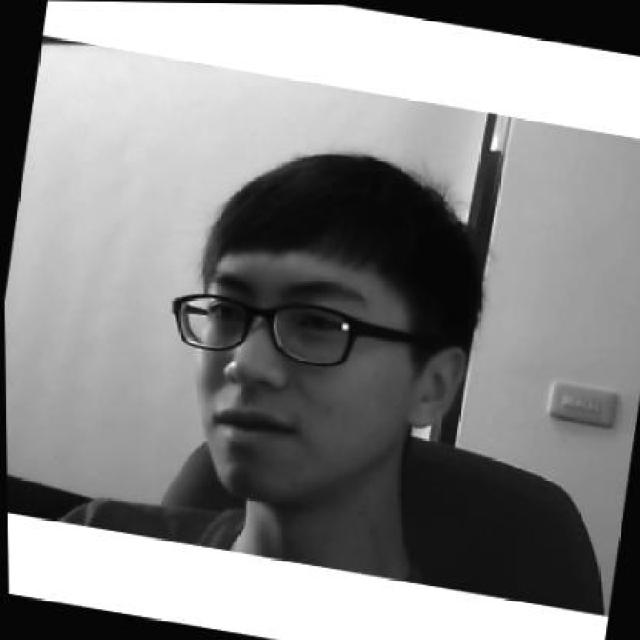attentif: (140, 123, 497, 529)
